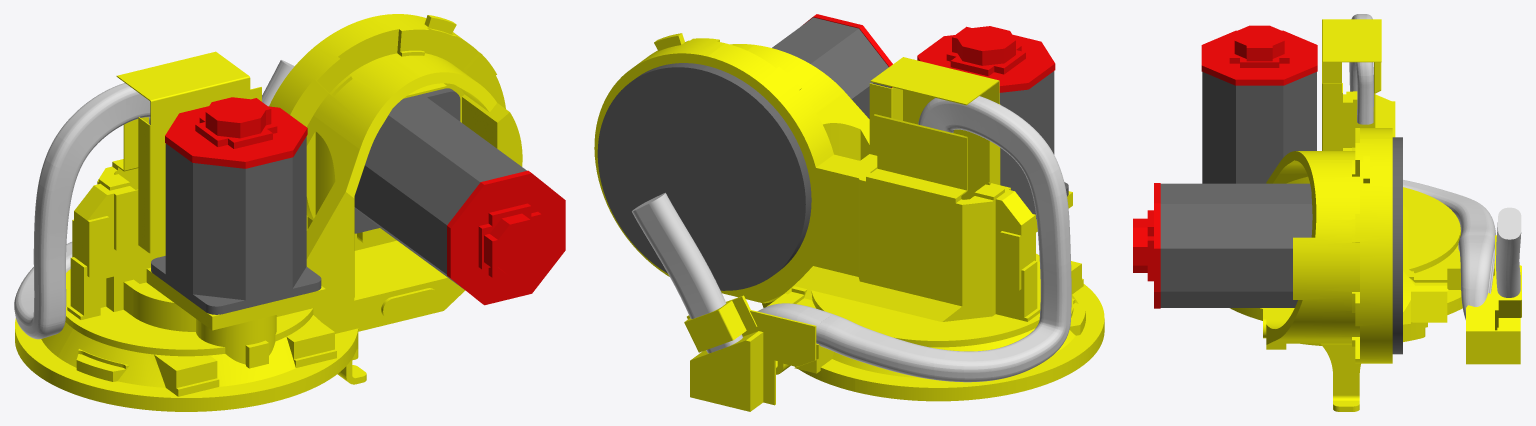
3 renders of one model, left to right at view 1: azimuth 30°, elevation 25°; view 2: azimuth 150°, elevation 25°; view 3: azimuth 270°, elevation 25°, orthographic. The views are drawn at different scales.
Parts seen in each view (by area): view 1: Mesh_0; view 2: Mesh_0; view 3: Mesh_0.
Part boxes in pixels (bbox=[...]): Mesh_0: bbox=[14, 14, 565, 411]; Mesh_0: bbox=[594, 14, 1104, 411]; Mesh_0: bbox=[1133, 14, 1521, 411].
Bounding box in the file's own units: 0.7214 × 0.583 × 0.4978.
